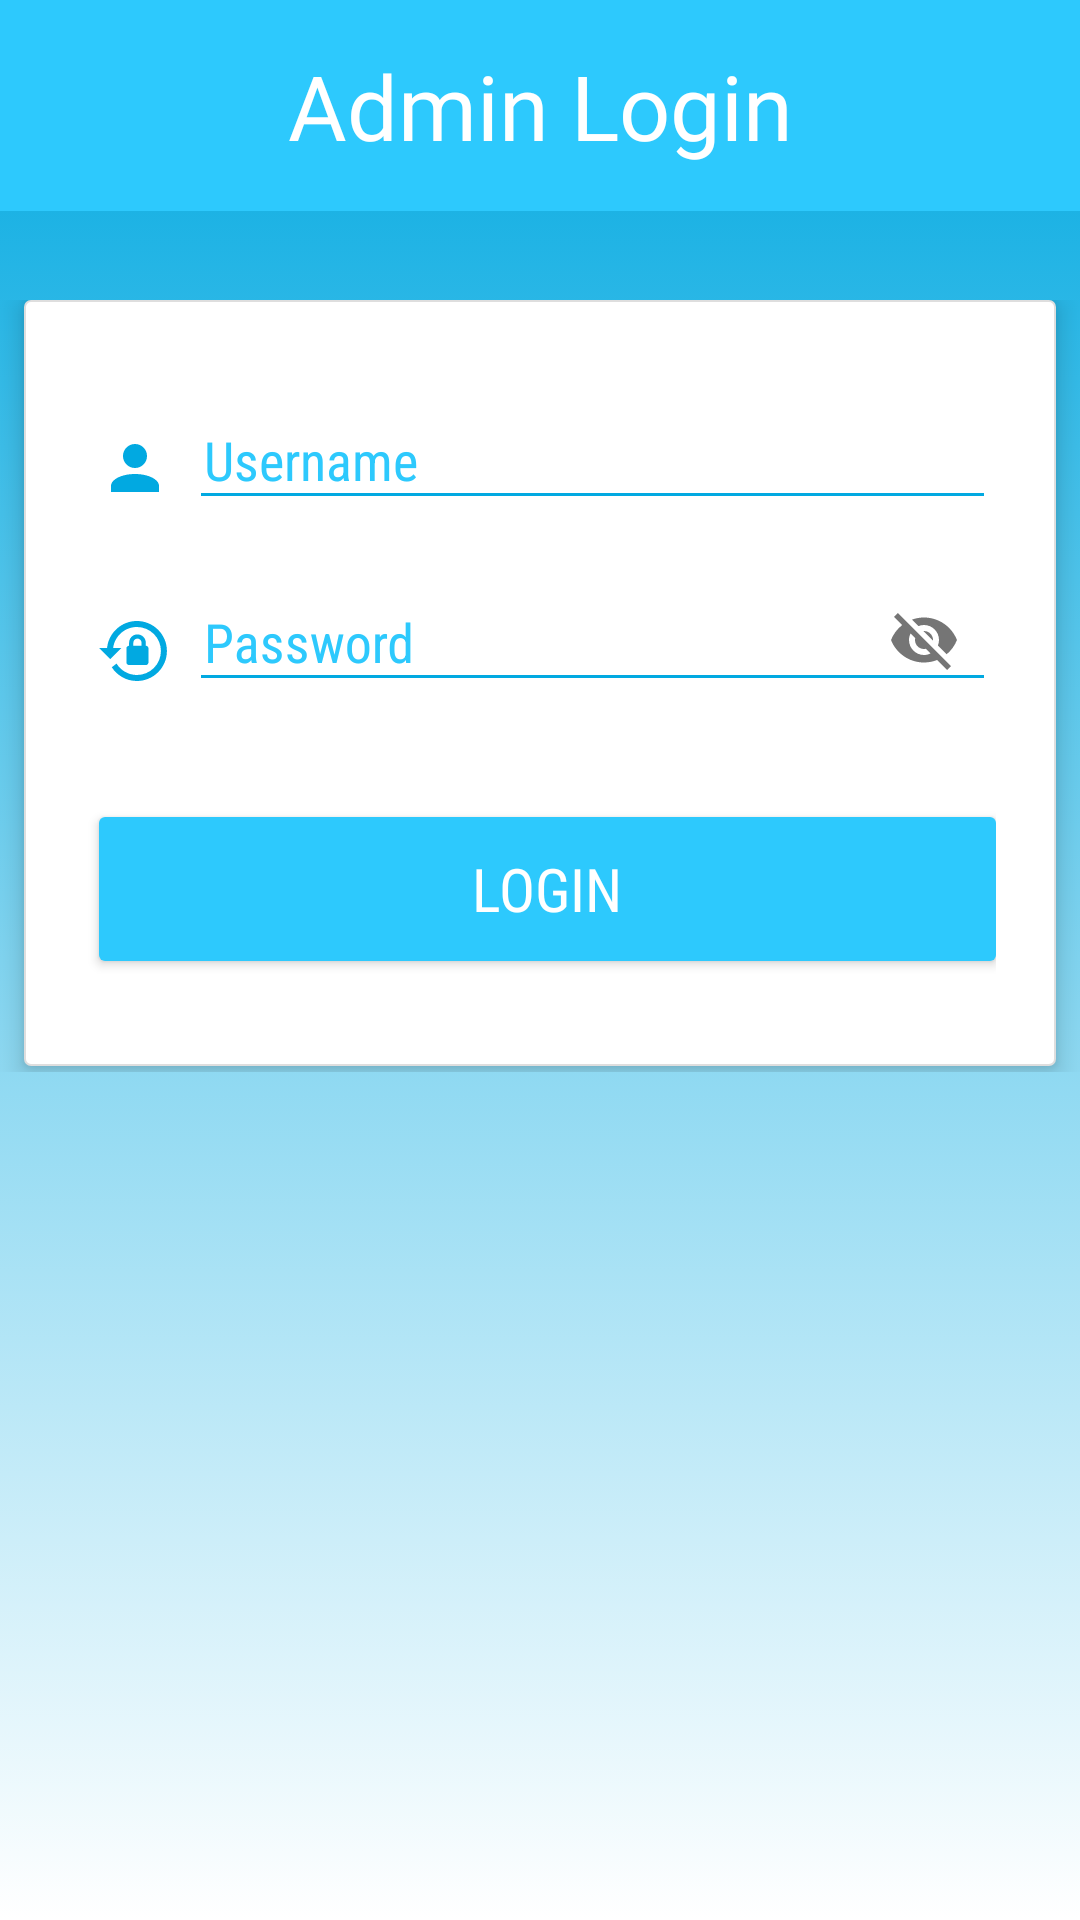

Icon bounding boxes for this 1080*1920 phone screenshot, format (x1, y1, x2, y2):
account: (111, 444, 159, 492)
lock reset: (99, 621, 167, 681)
